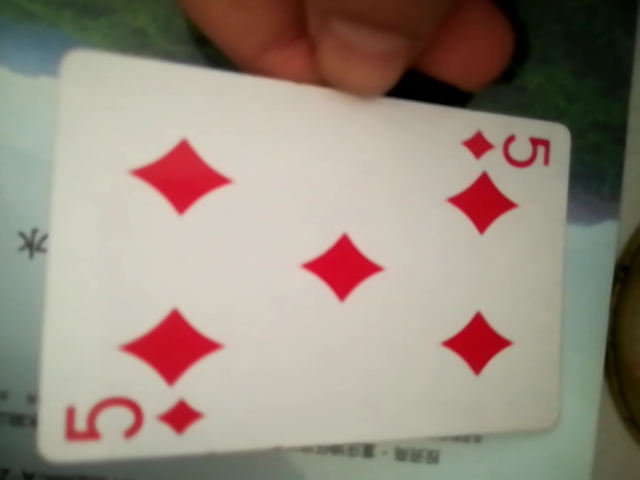fk 5: (39, 45, 578, 471)
